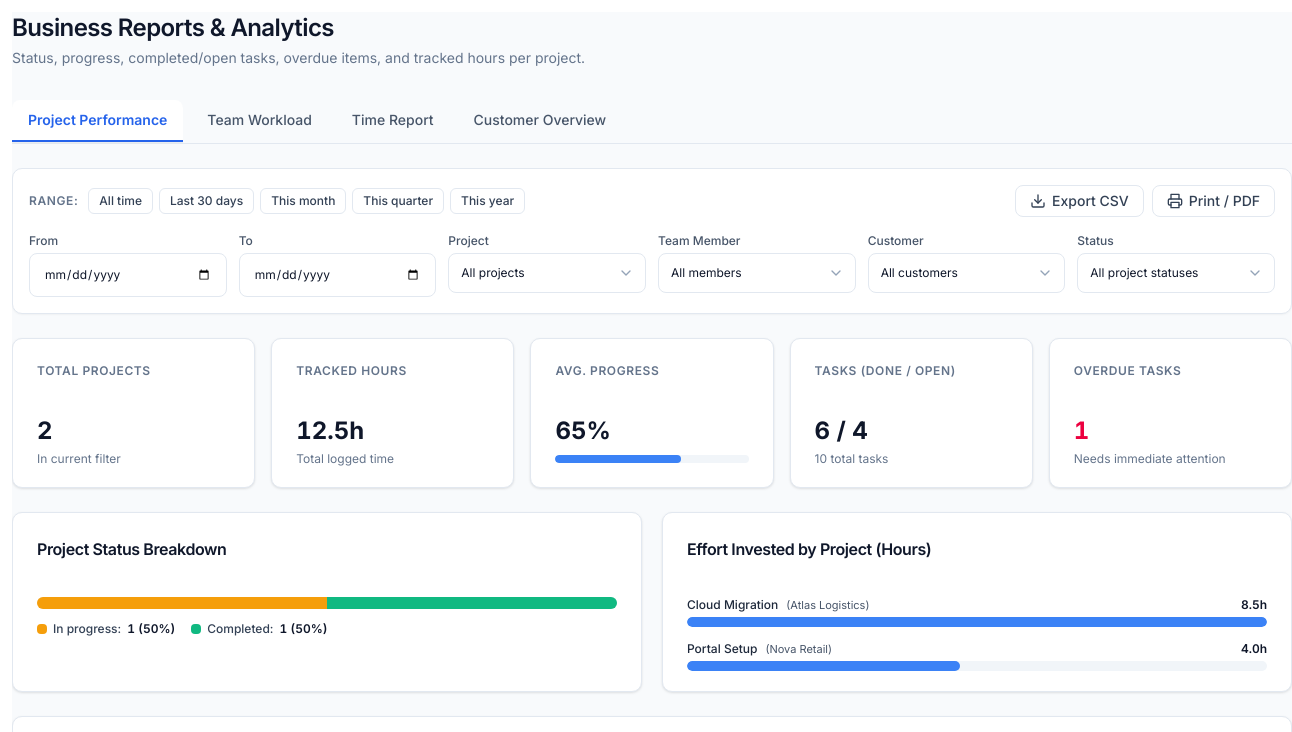
Test: ReportsPage › switches tabs to Team Workload and renders member workload metrics
This screenshot has width=1292, height=732.
What coordinates should you click on to do the following:
click the button "Team Workload"
I would click on:
 (260, 121)
Its box is [191,100,328,142].
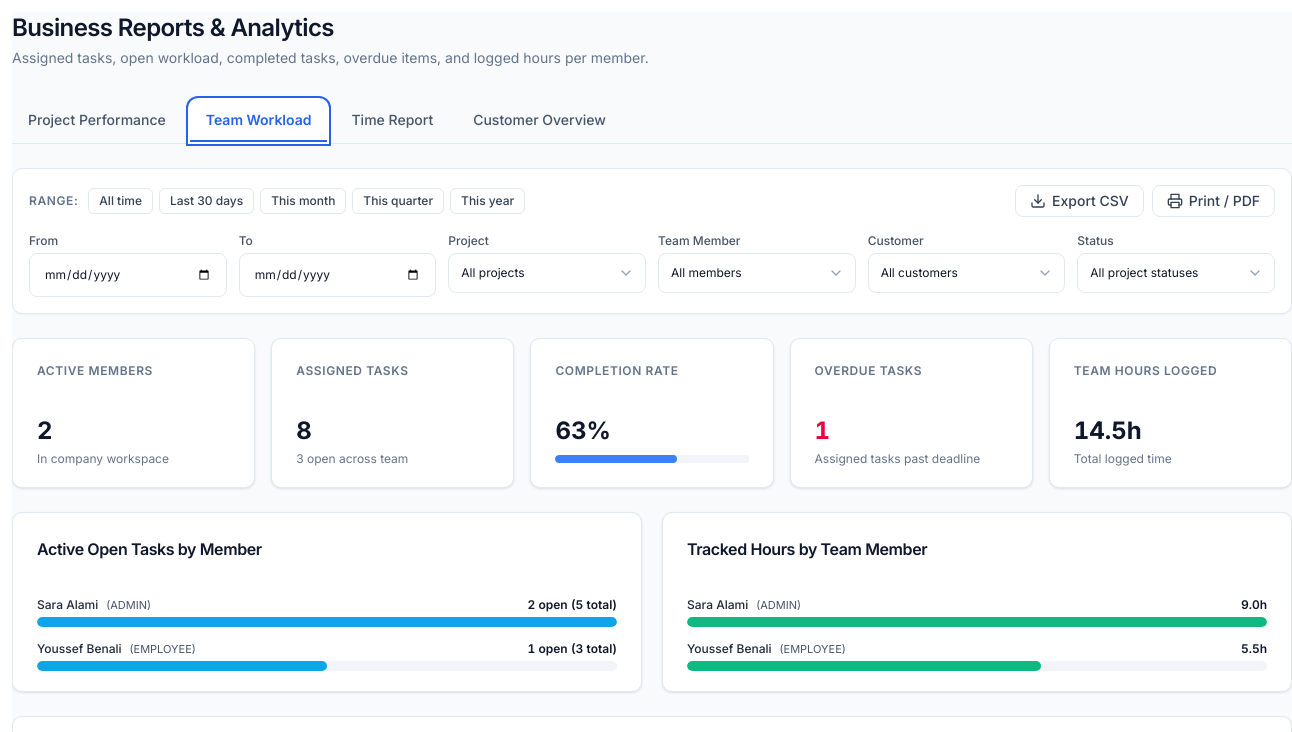
Now the text "Active Members" is shown, box [37,363,153,378]
Now the text "Youssef Benali" in the row of "1 open (3 total)" is shown, box [37,641,122,656]
Now the text "14.5h" is shown, box [1074,416,1142,445]
